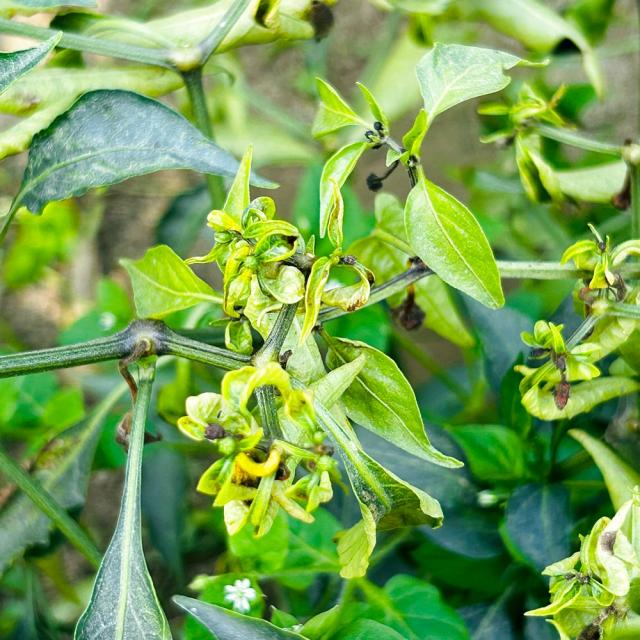Chilli_Leaf_Curl: (1, 1, 638, 638), (118, 143, 465, 579), (1, 86, 258, 237), (304, 350, 446, 579), (72, 351, 172, 639), (514, 222, 639, 421), (316, 333, 465, 470), (523, 489, 639, 639), (401, 168, 506, 310), (413, 40, 550, 126), (516, 318, 602, 415), (117, 243, 225, 320), (317, 139, 372, 248)
